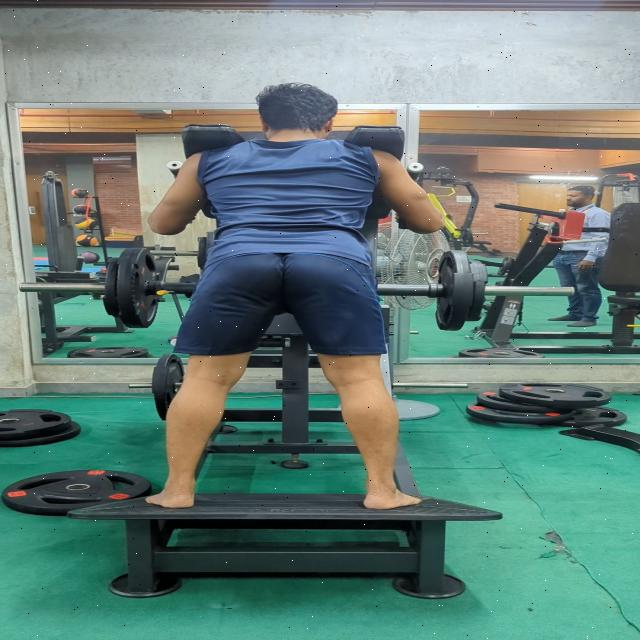Normal_SquatsWithBarbell: (128, 84, 468, 524)
